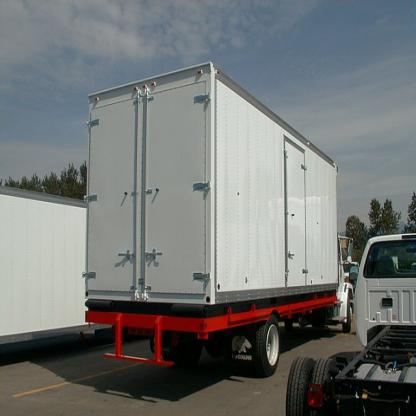normal-truck: (73, 63, 376, 374)
